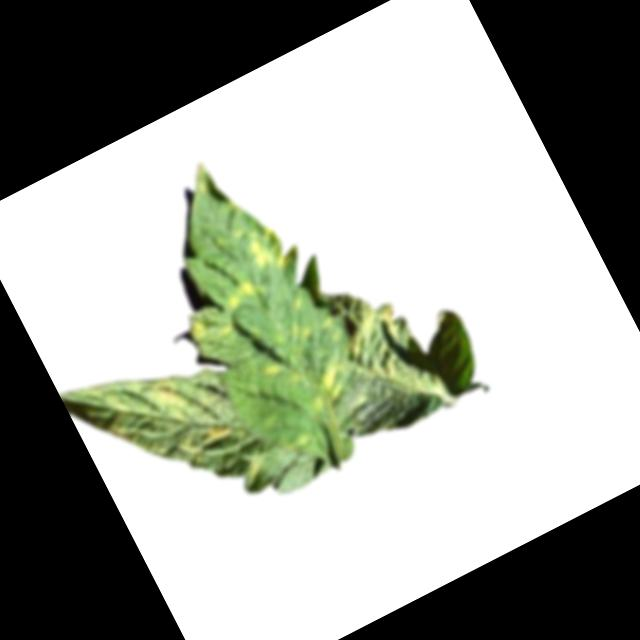Leaf_Mold: (62, 327, 268, 542), (334, 296, 423, 392), (180, 277, 272, 356), (231, 214, 298, 282), (292, 358, 350, 418), (257, 357, 282, 381)
